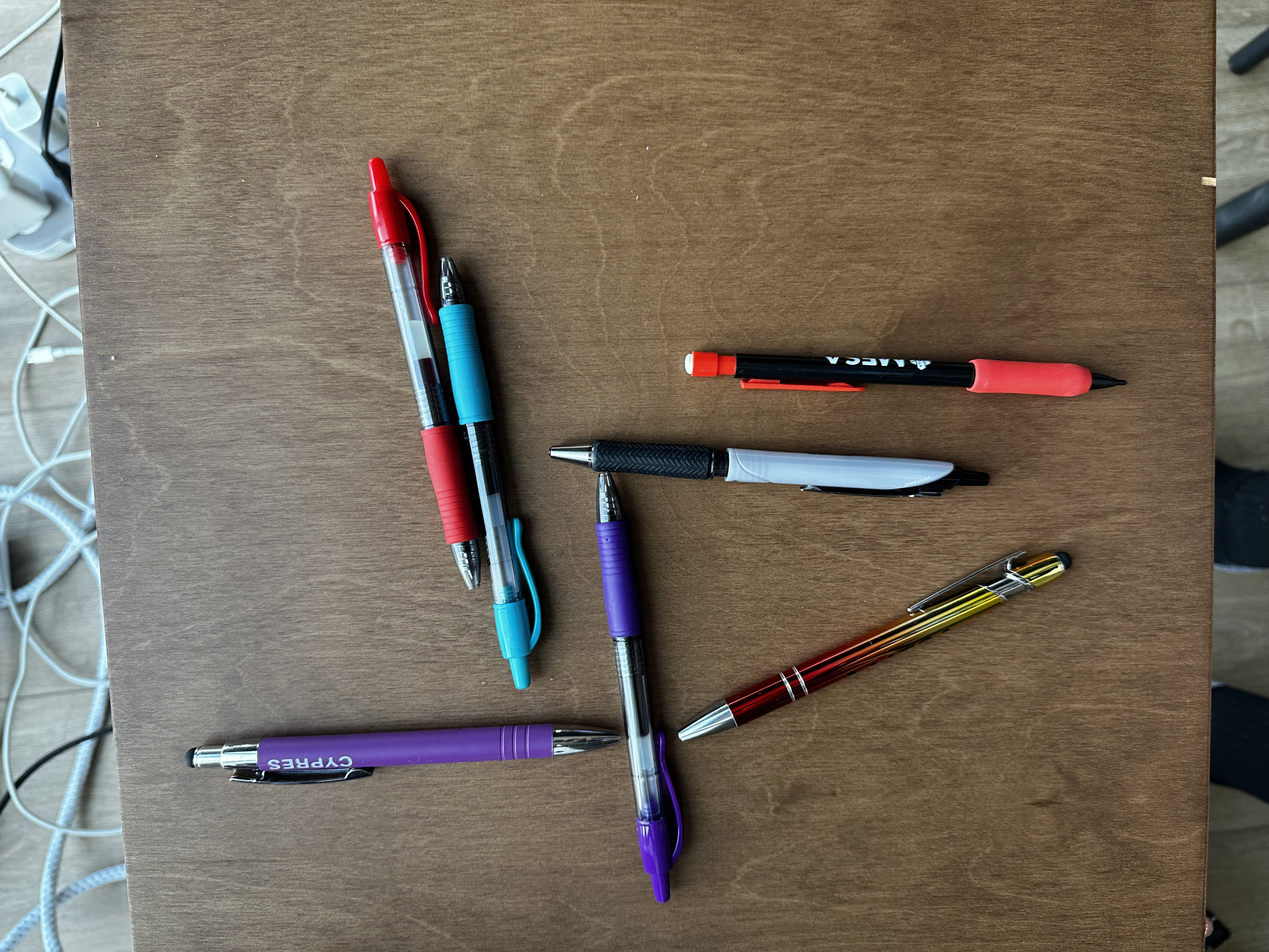Blue Pen: (435, 245, 551, 680)
Cypres Pen Purple: (184, 724, 627, 785)
MESA Multicolored pen: (674, 534, 1073, 743)
Purple Pen: (591, 467, 690, 899)
Red Mechanical Pencil: (682, 342, 1130, 399)
Red Pen: (361, 152, 483, 585)
Silver Pen: (551, 435, 994, 502)
